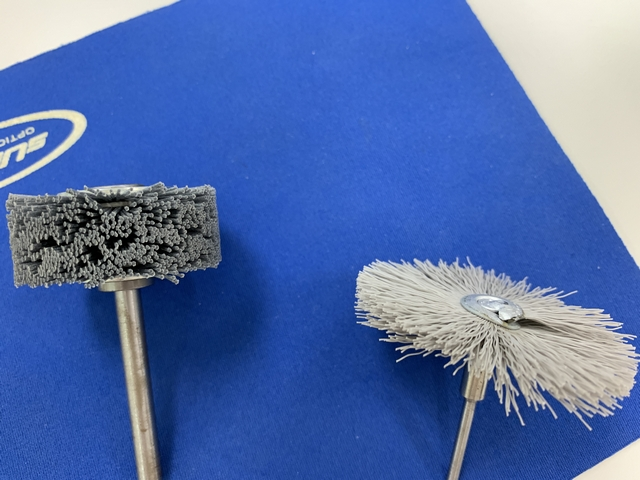TOOL: (342, 248, 640, 477), (427, 240, 629, 480)
Wheel Brush: (6, 187, 257, 477), (21, 175, 194, 478), (66, 171, 220, 469)
